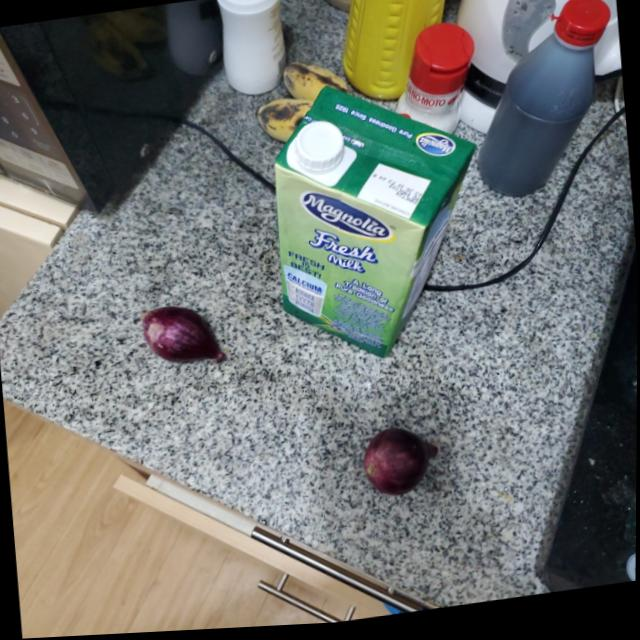milk: (265, 69, 494, 379)
onion: (141, 299, 226, 373), (362, 431, 443, 502)
